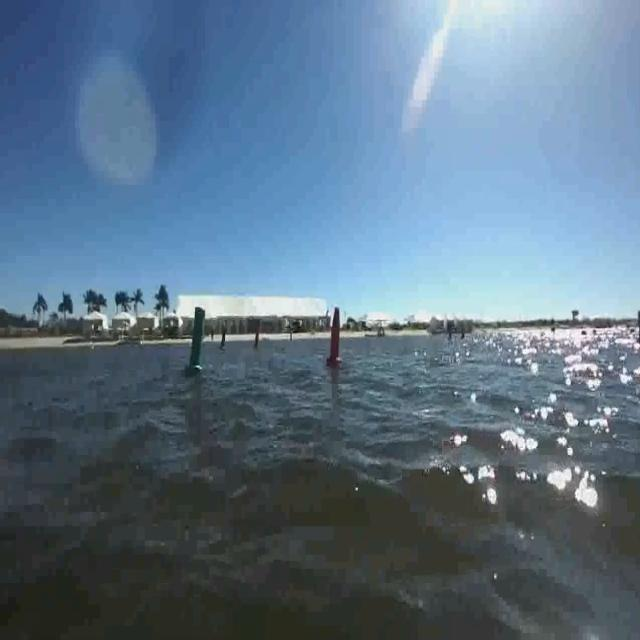green-column-buoy: (184, 305, 207, 375), (218, 324, 228, 353)
red-column-buoy: (328, 307, 346, 369), (253, 326, 262, 351)
